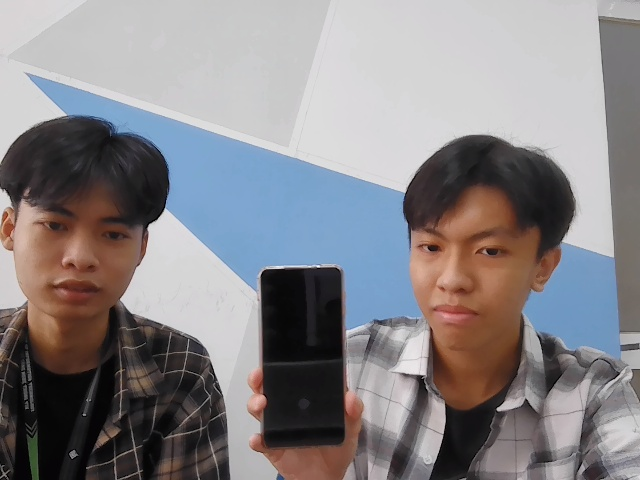human: (397, 123, 577, 345), (5, 121, 172, 327)
phone: (254, 264, 353, 451)
